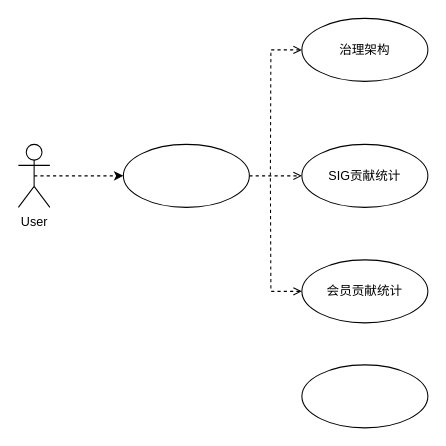
Image size: 446x446. Some labels were removed from this diagram. Here are the shapes that lost their labels. From the top down, the box of each, then its label:
(122, 143, 249, 207): 社区治理统计
(301, 364, 428, 428): 个人贡献统计
